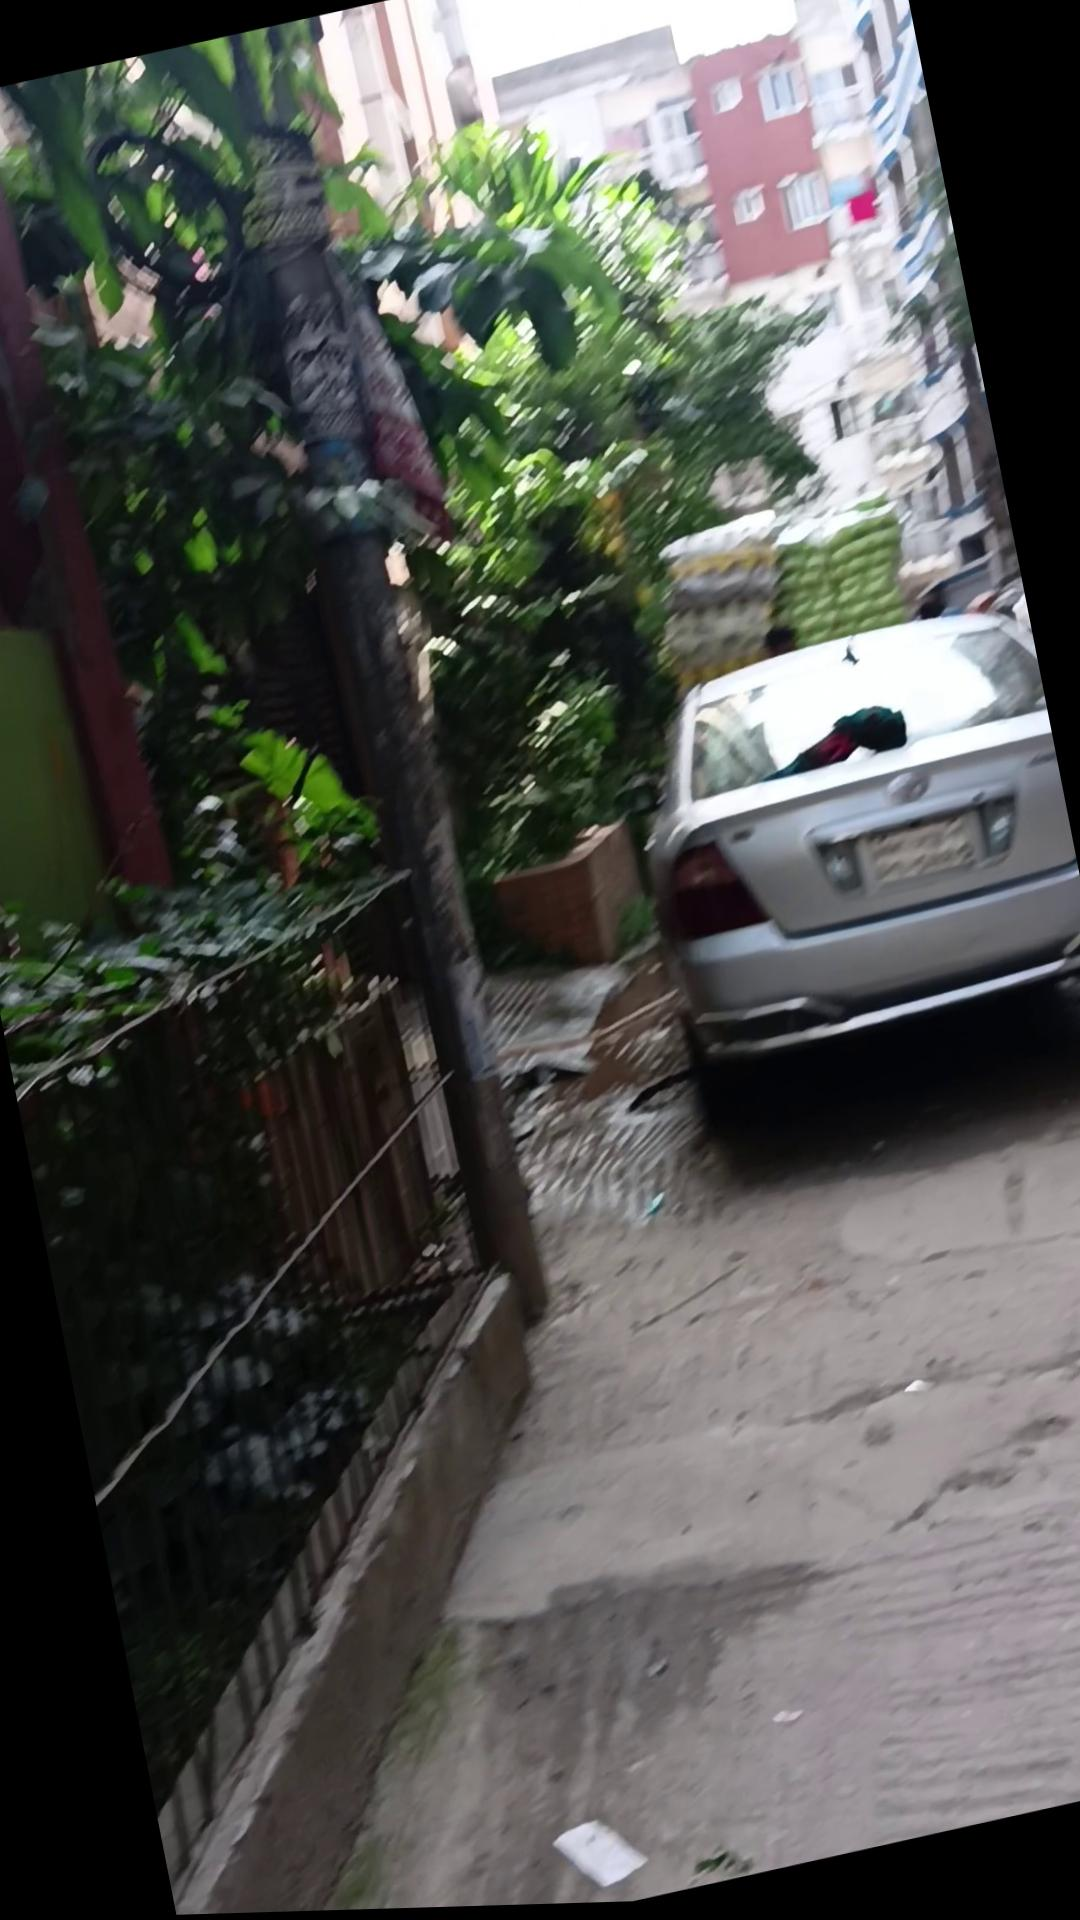Car: (604, 589, 1080, 1106)
Crosswalk: (69, 1257, 640, 1919), (481, 815, 655, 988)
Obstacle: (224, 103, 560, 1350)
Railroad-crossing: (560, 943, 695, 1109)
Traffic-cone: (7, 0, 825, 922)
